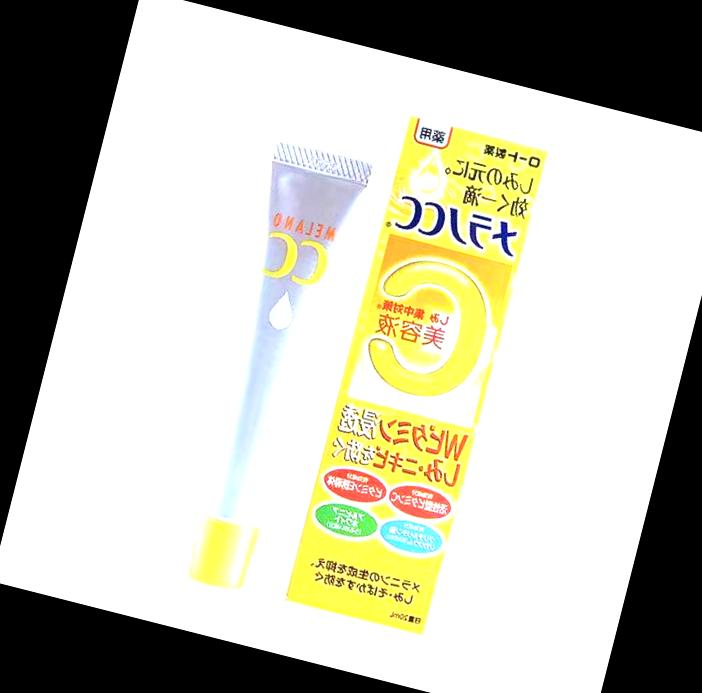cosmetic: (166, 138, 378, 599)
